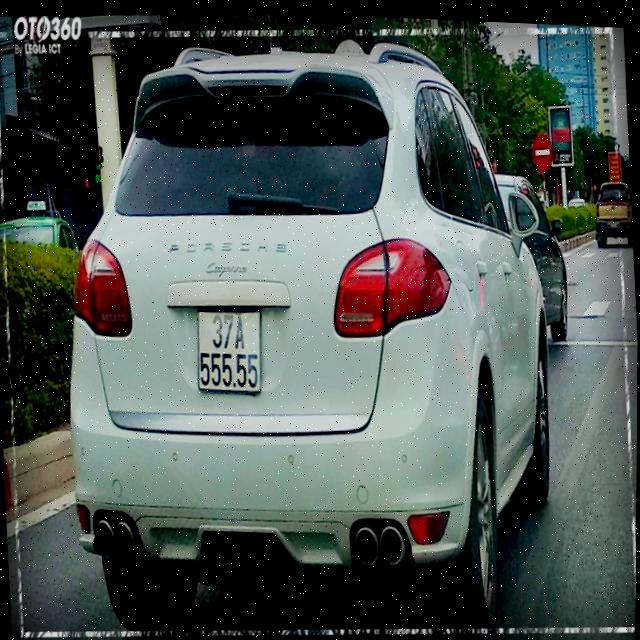car: (39, 6, 598, 636), (592, 174, 632, 248)
plate: (185, 302, 274, 399), (9, 12, 92, 50)
